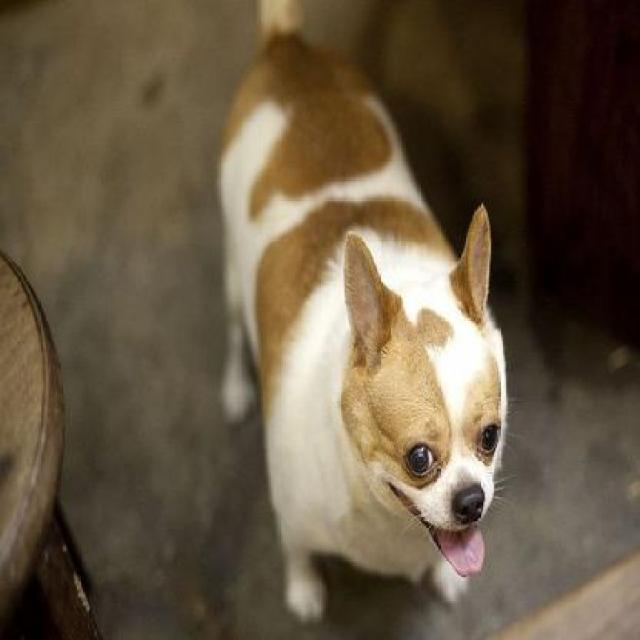Dog: (216, 0, 515, 638)
